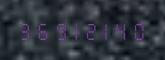four: (113, 20, 128, 40)
nine: (49, 20, 64, 40)
one: (65, 20, 80, 40), (97, 20, 112, 40)
six: (33, 20, 48, 40)
three: (17, 20, 32, 40)
two: (81, 20, 96, 40)
zero: (129, 20, 144, 40)
